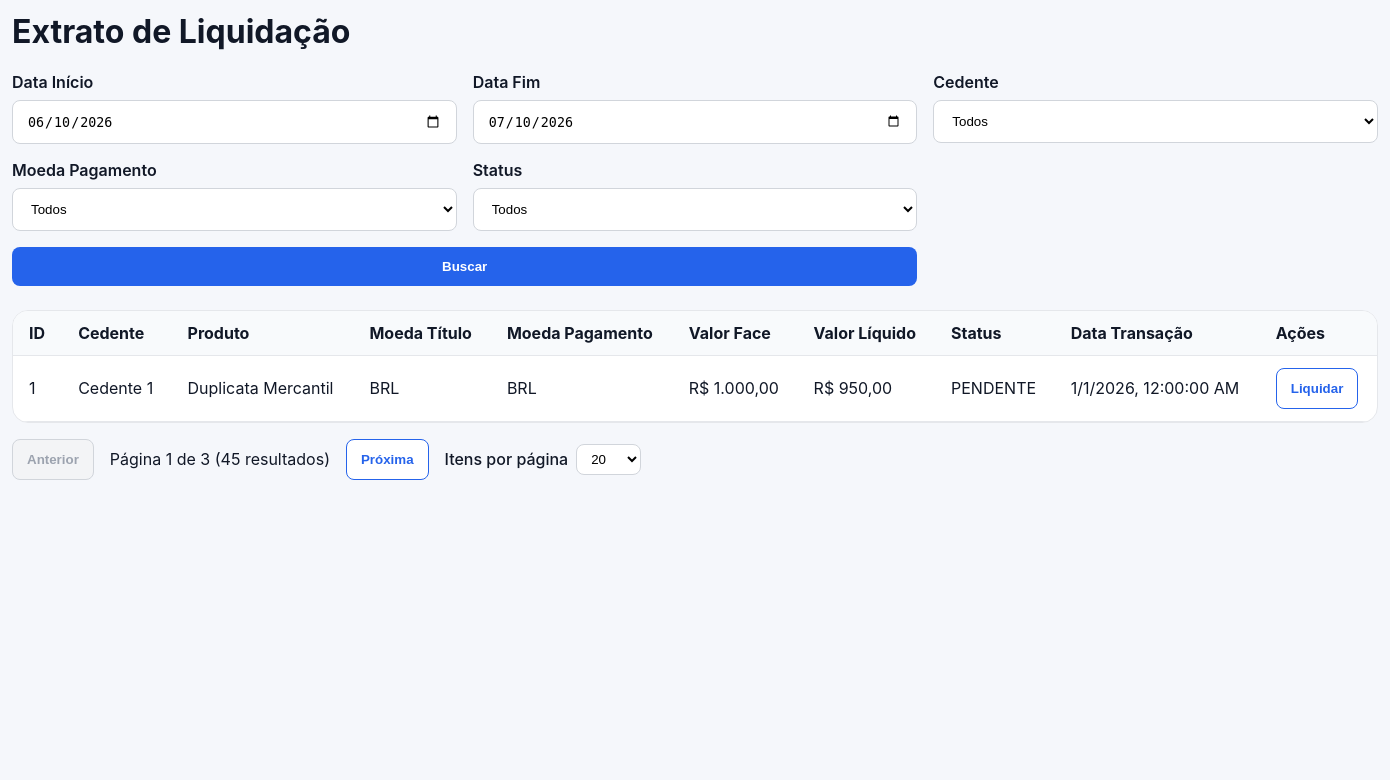
it: ExtratoPage › shows a Liquidar button only for PENDENTE rows and settles the transaction on click
Click the button "Liquidar" at (1317,388), box [1276, 368, 1358, 409]
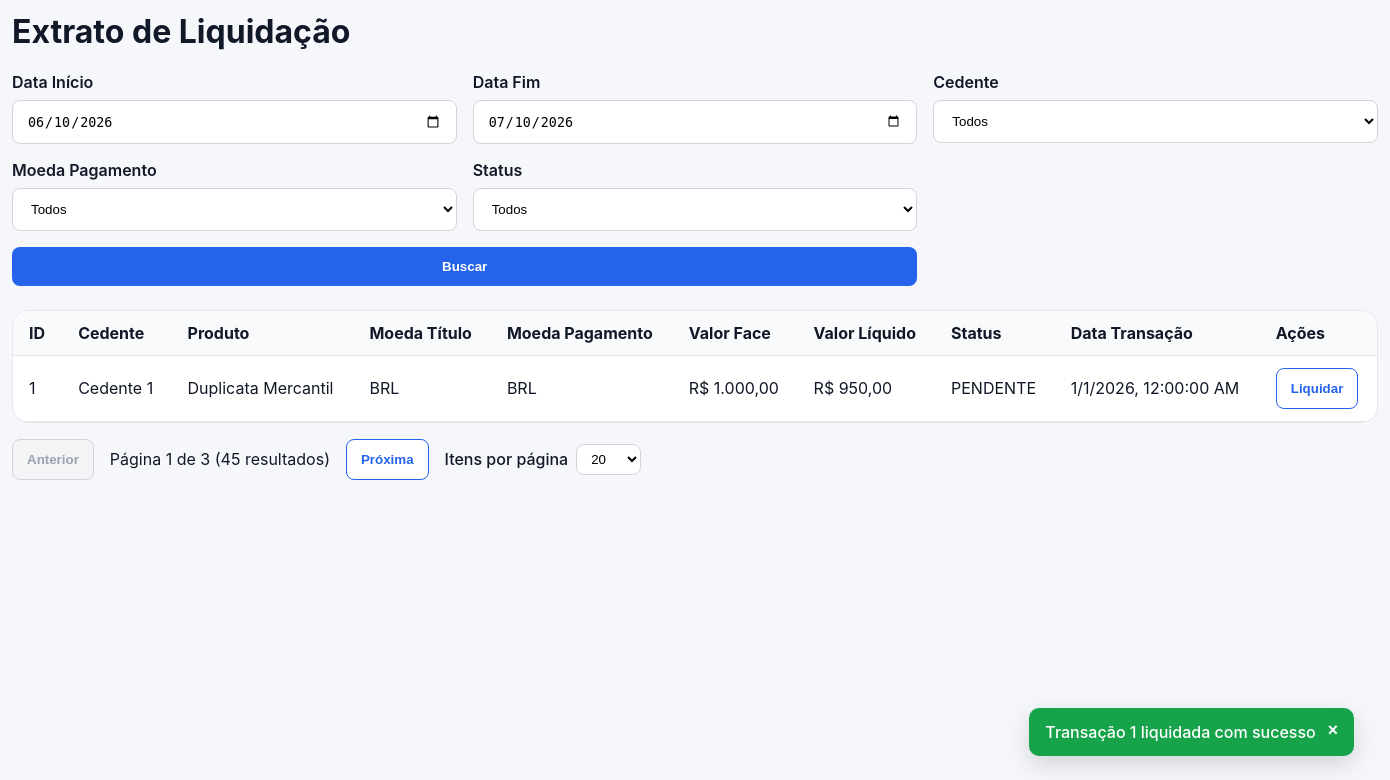
Result: the text "Transação 1 liquidada com sucesso" is shown at [1045, 722, 1316, 742]
